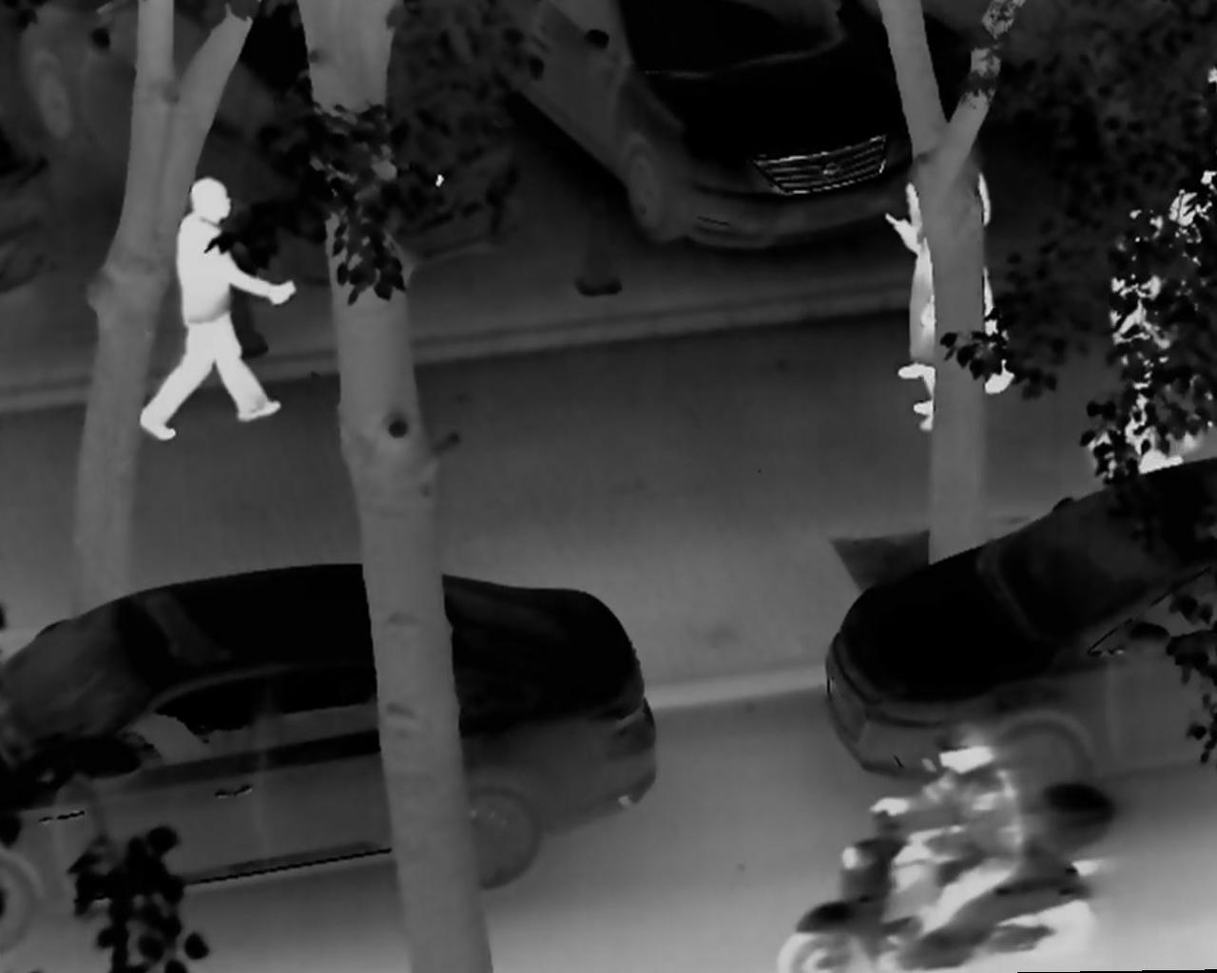person: (134, 178, 301, 445), (854, 713, 1024, 960), (897, 147, 1023, 393), (1091, 200, 1191, 486), (884, 171, 957, 438), (1156, 154, 1217, 449)
